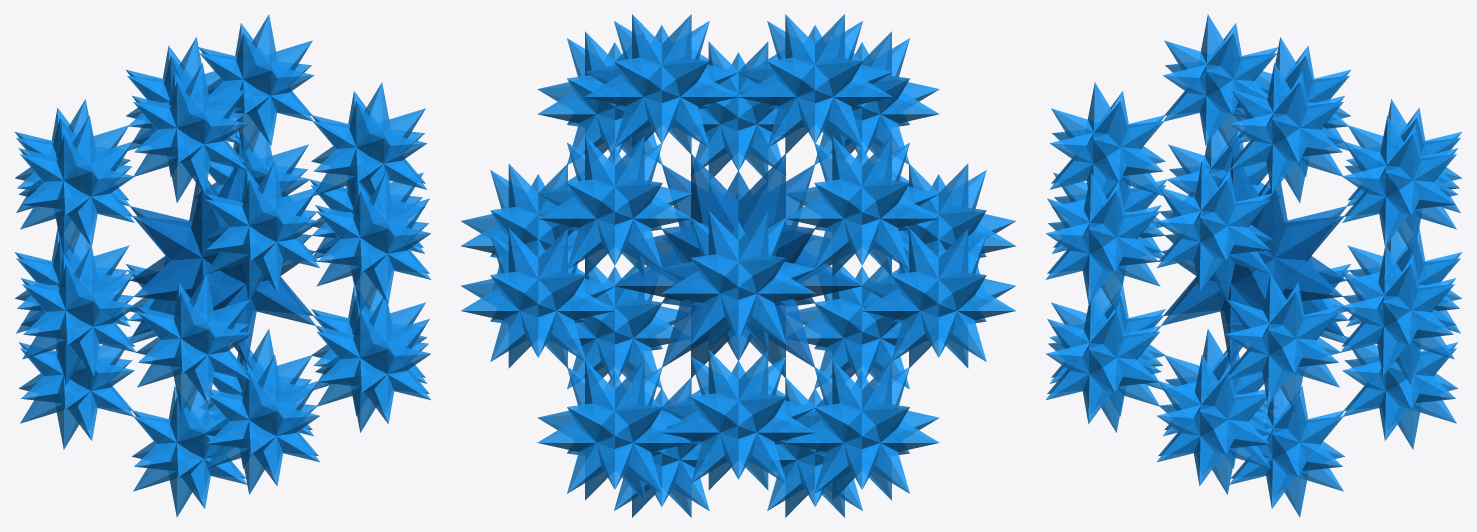
Rendered from fractalgreatstellapentakisdodecahedron1.glb.
3 views of the same model, side by side, from view 1: azimuth 30°, elevation 25°; view 2: azimuth 150°, elevation 25°; view 3: azimuth 270°, elevation 25° (orthographic). The views are drawn at different scales.
Bounding box in the file's own units: 11.79 × 11.15 × 9.66.
